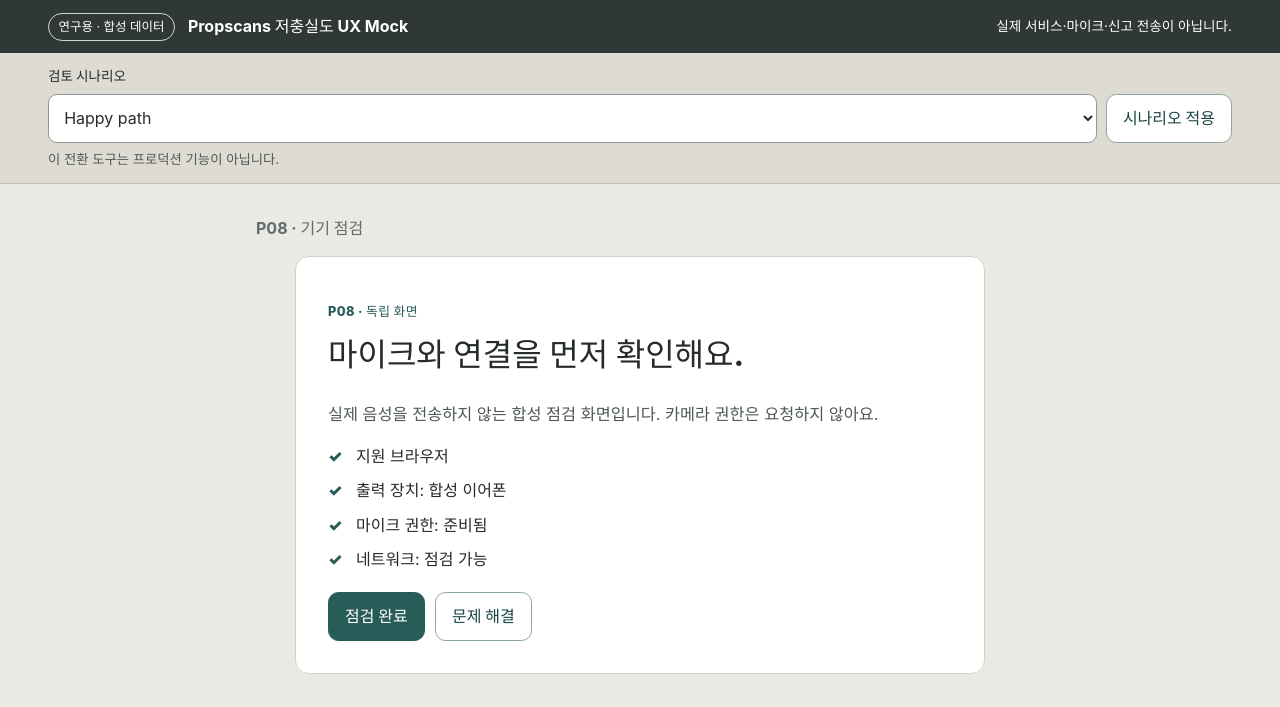
Scenario: Propscans UX mock › shows only independently available peer resources
Select "공개 리소스 이용 불가" in the dropdown labelled "검토 시나리오" at (573, 118), box [48,94,1097,143]
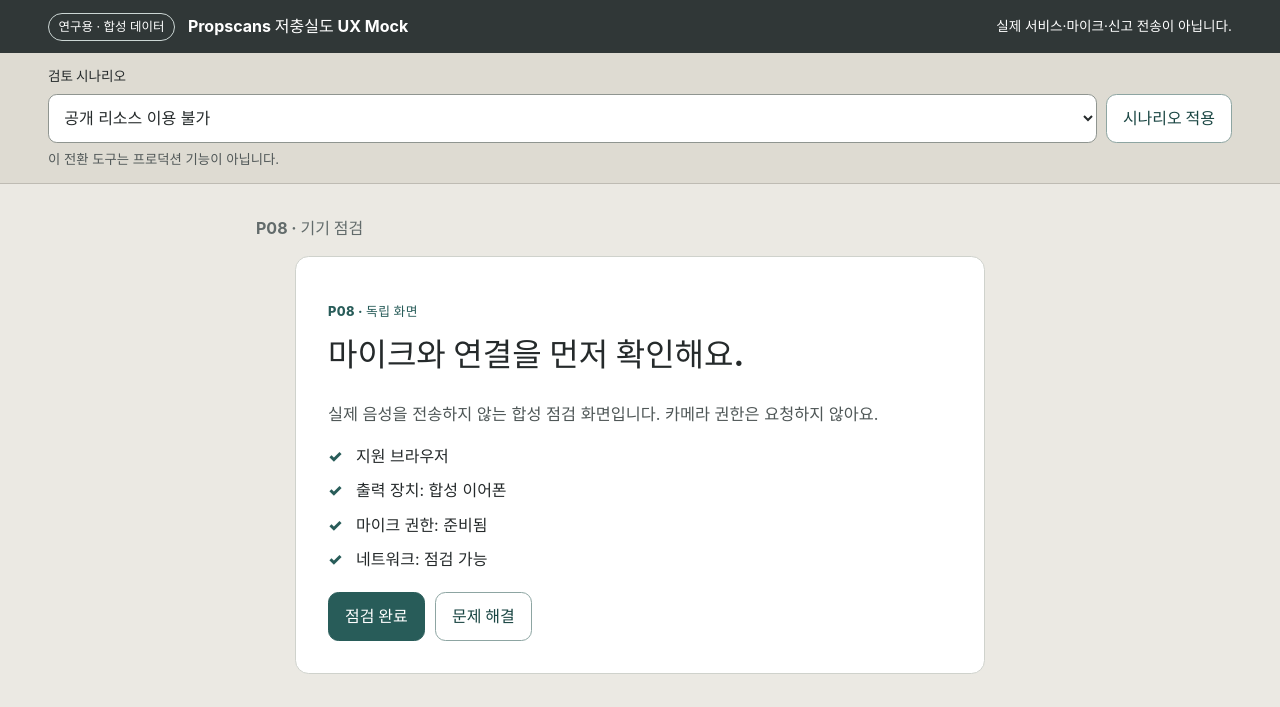
Click the button "시나리오 적용".
click(1169, 118)  # box [1106,94,1232,143]
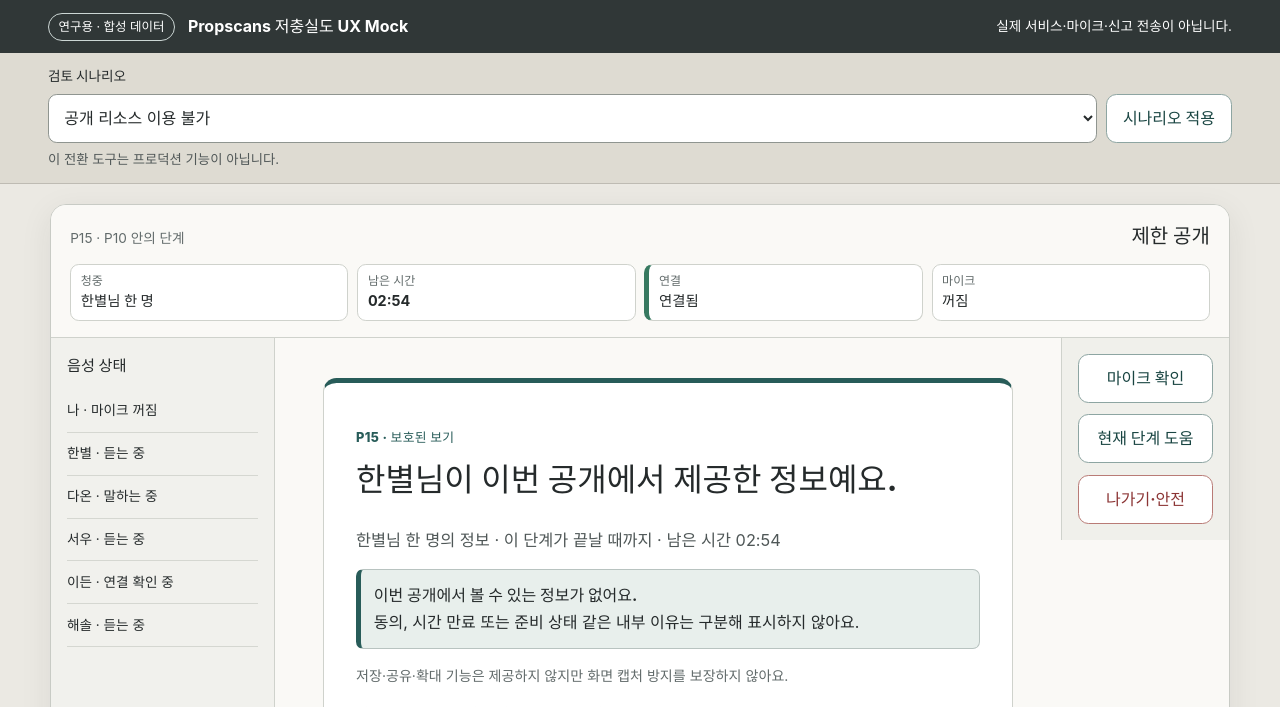
Result: the text "이번 공개에서 볼 수 있는 정보가 없어요." is shown at [374,585,637,605]
